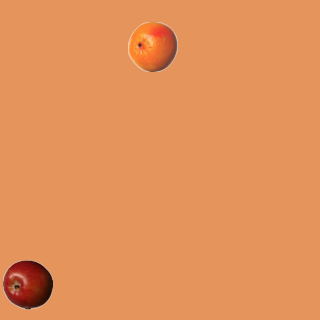Apple Braeburn: (2, 259, 52, 309)
Grapefruit Pink: (127, 21, 177, 71)
